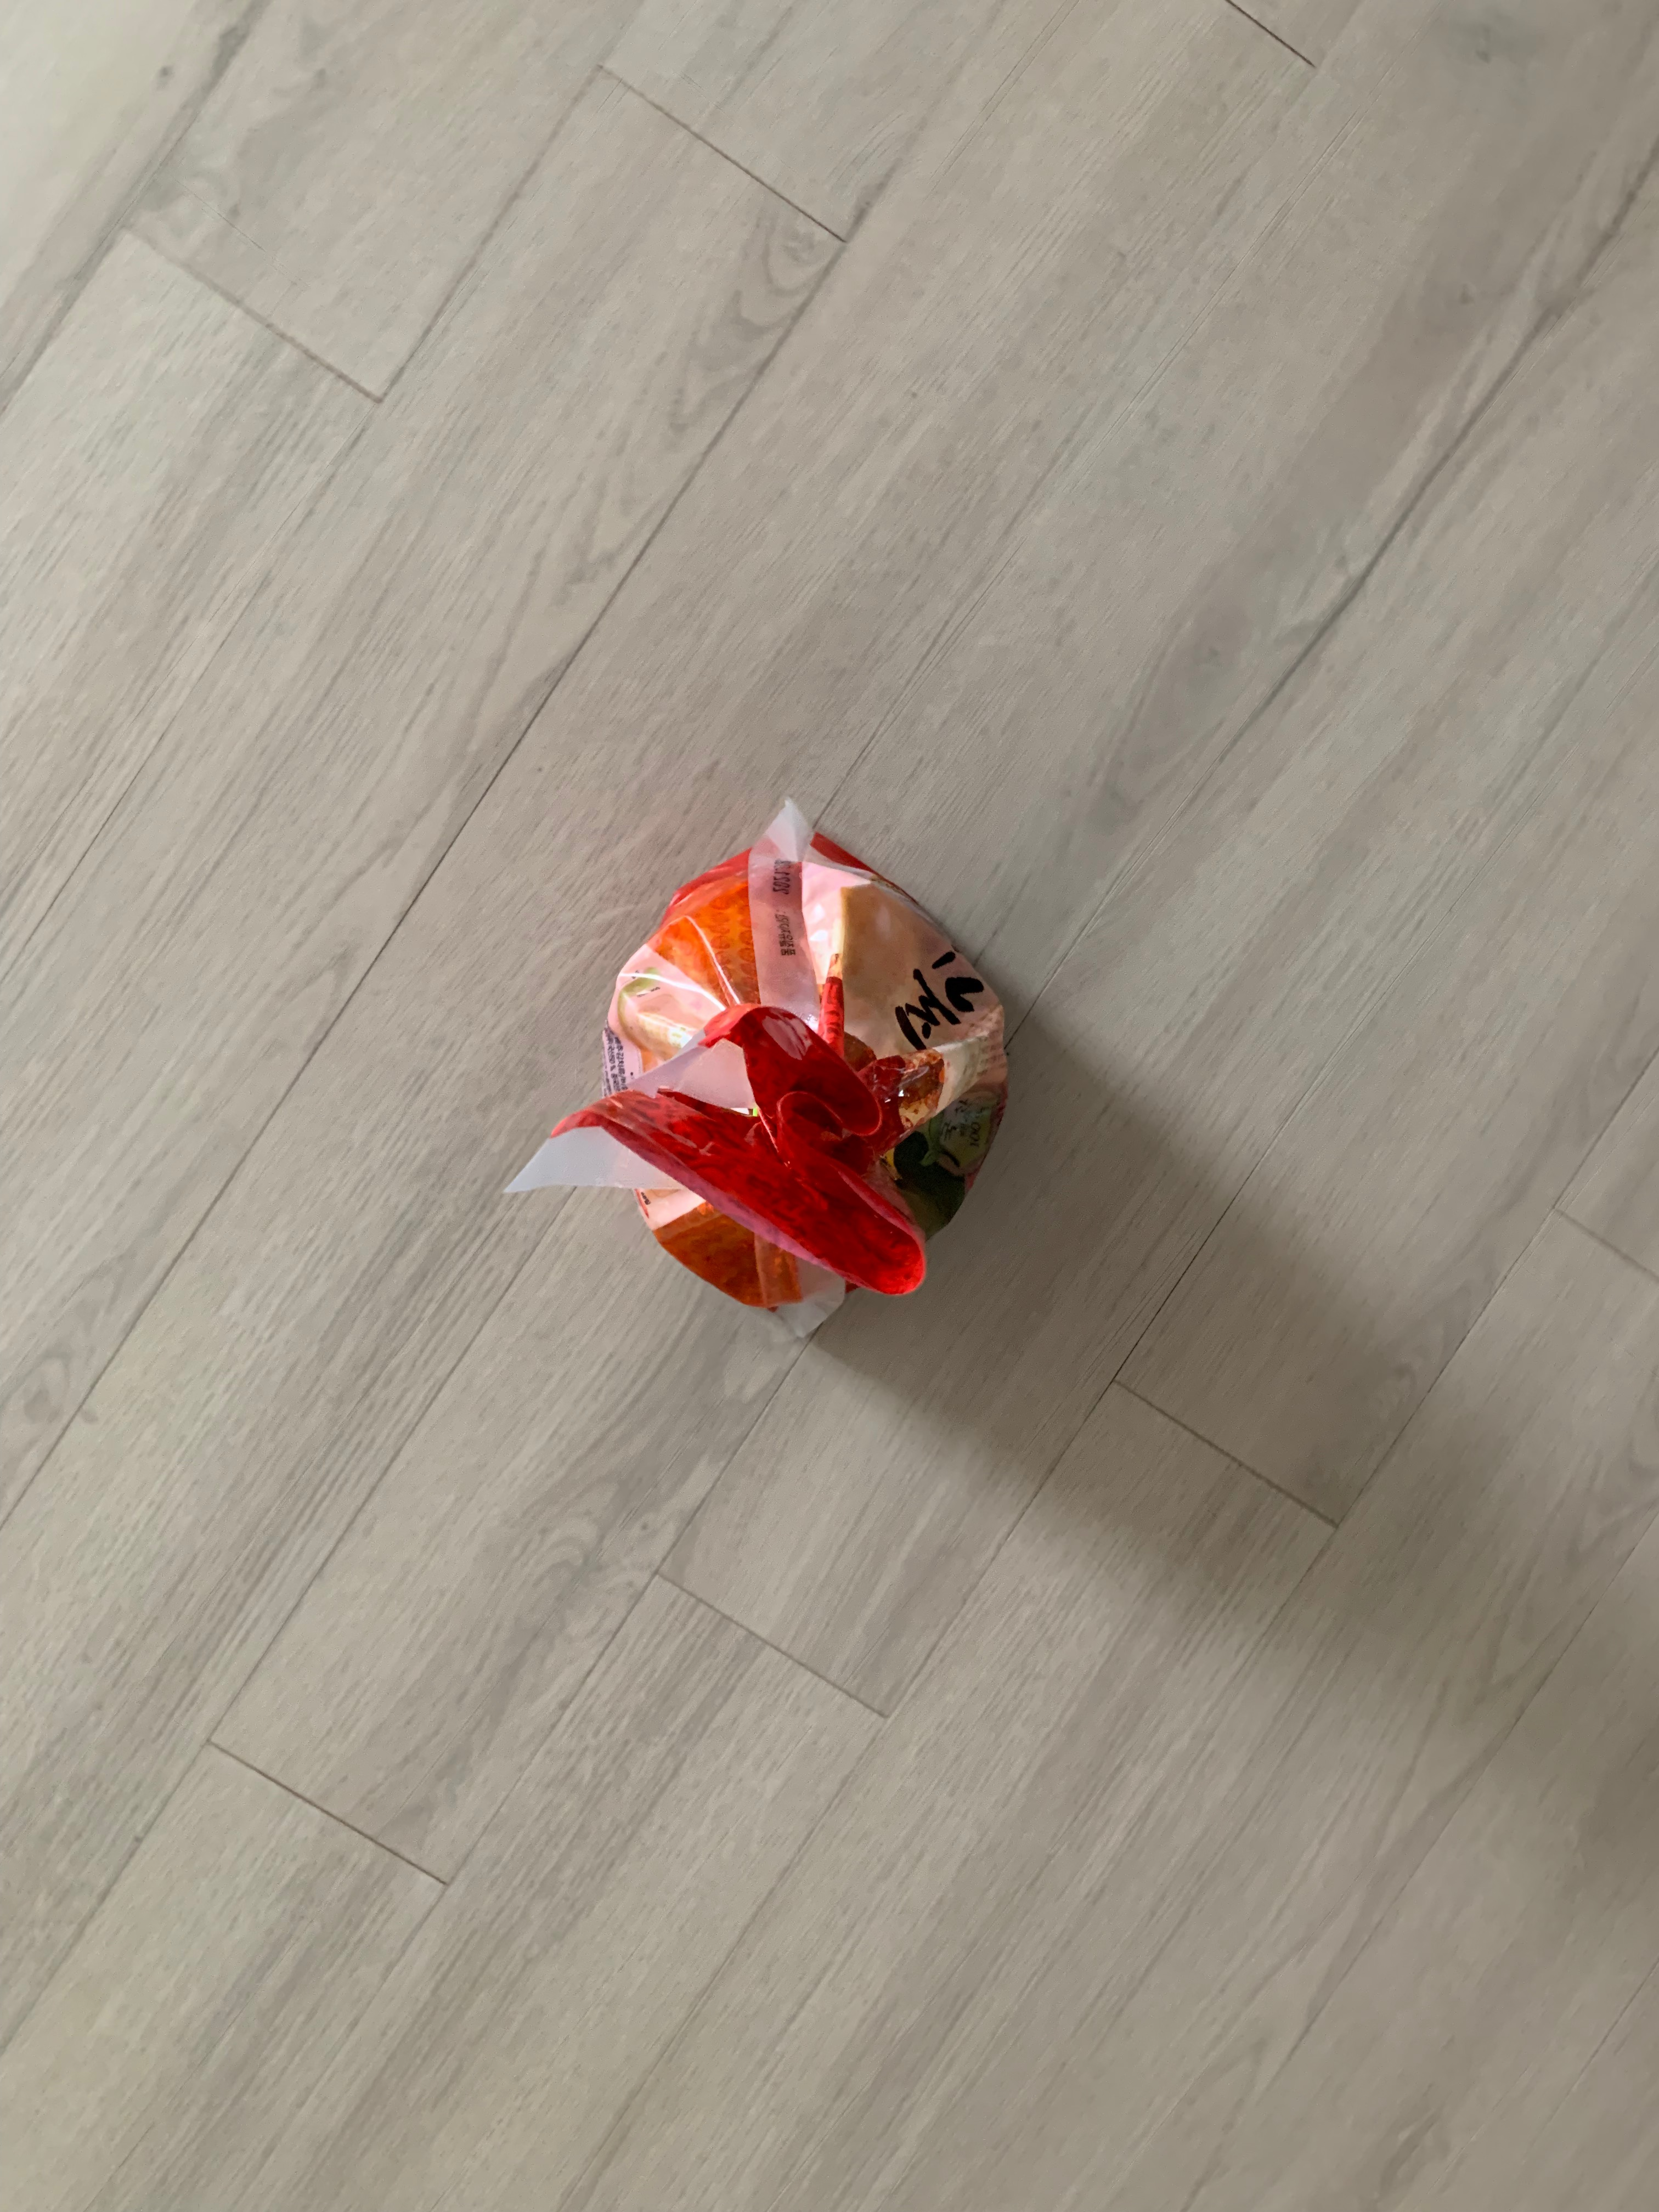kimchi: (587, 834, 1019, 1312)
